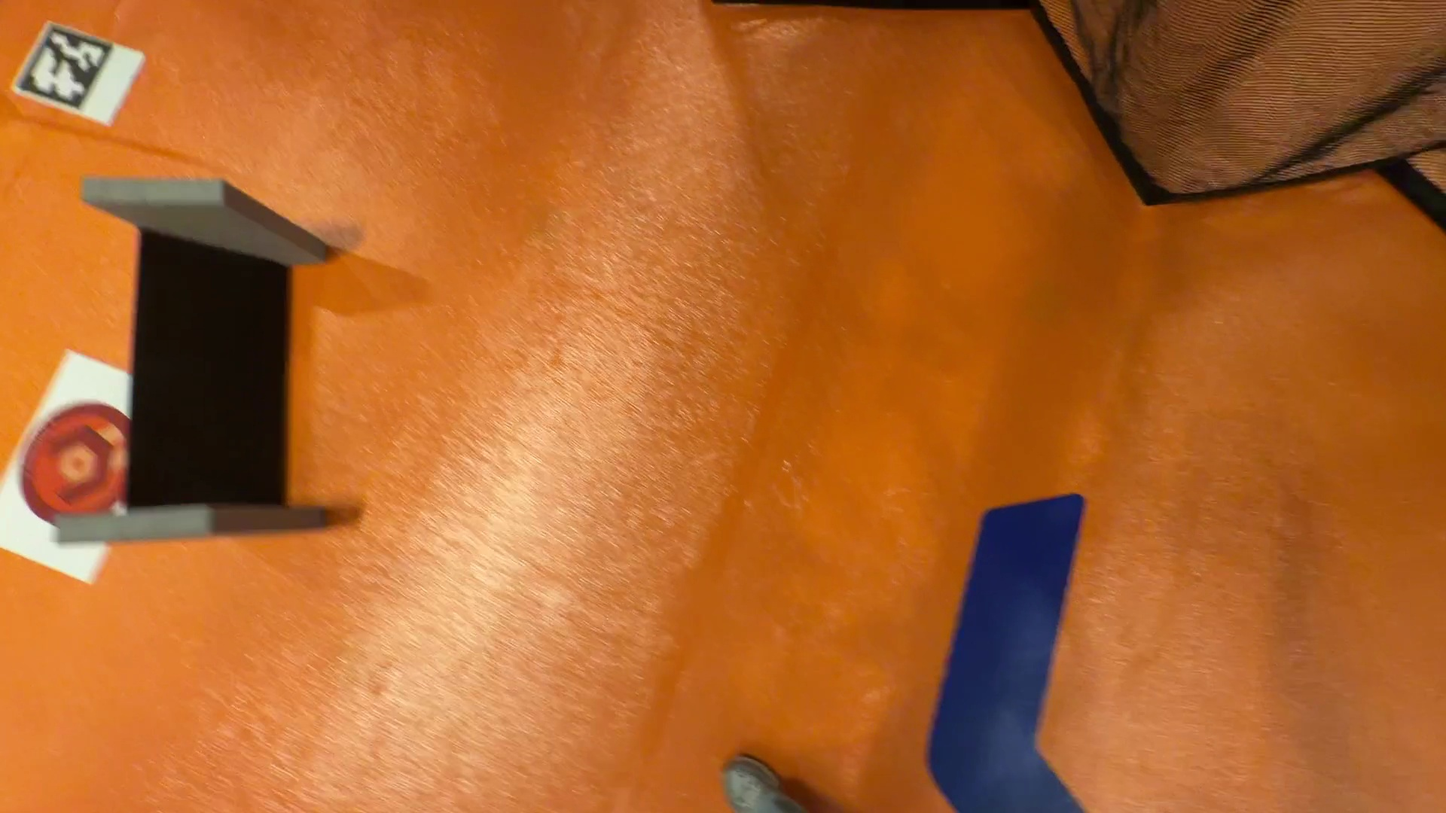landing_pad: (23, 400, 133, 528)
